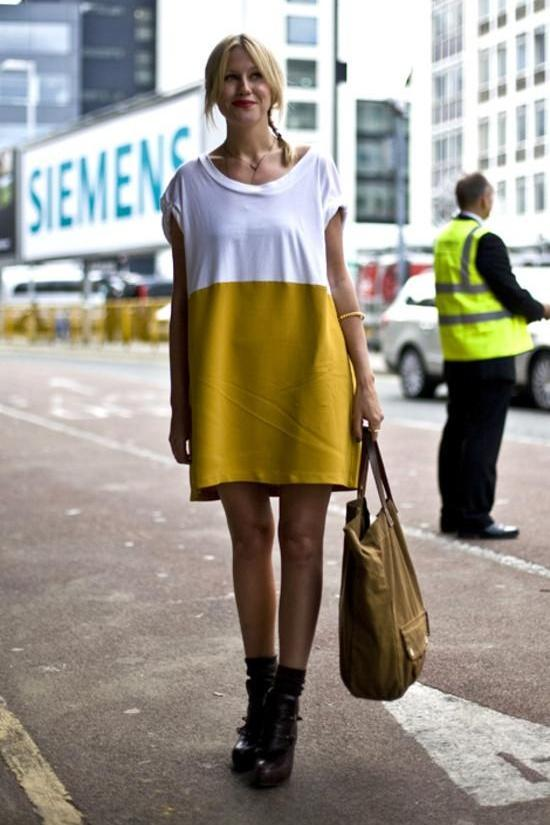dress: (162, 145, 364, 502)
